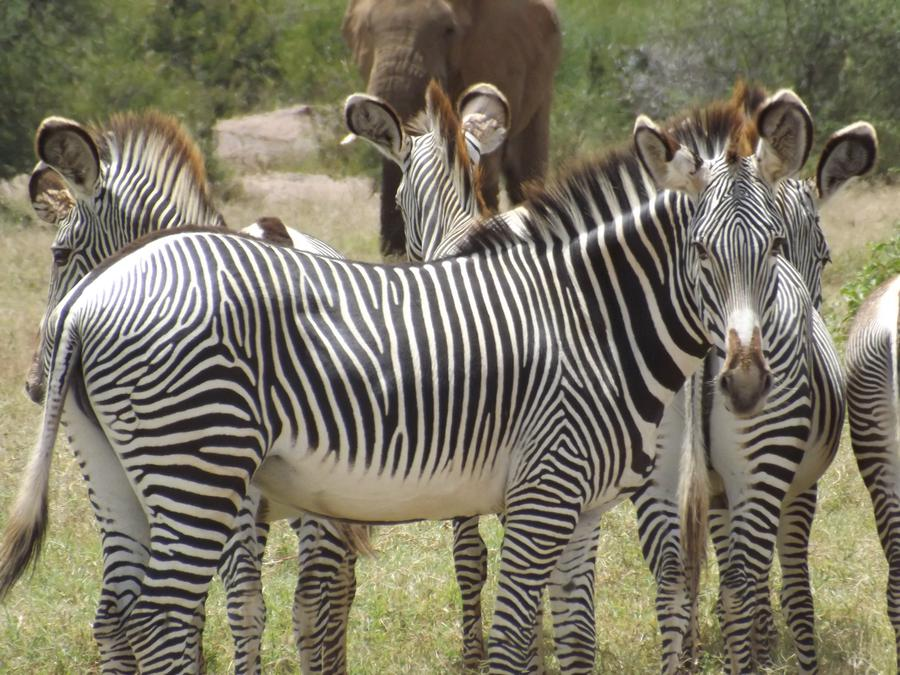zebra_grevys: (19, 234, 608, 509)
